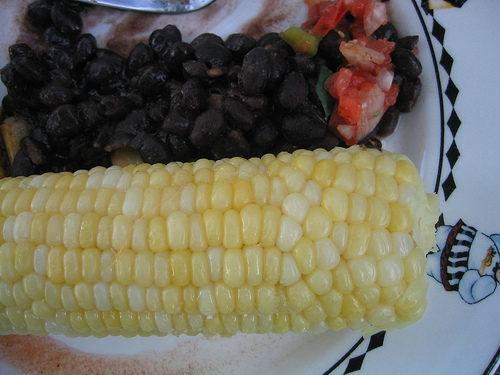corn: (1, 147, 433, 338)
